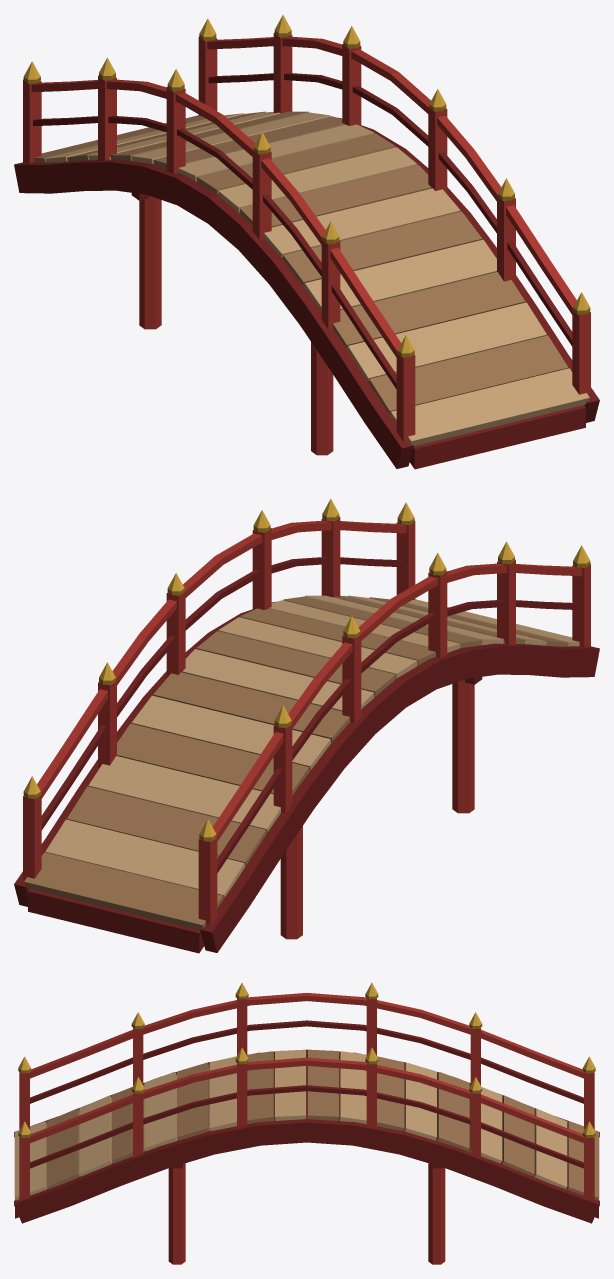
Rendered from bridge_arch.fbx.
3 views of the same model, one above another, from view 1: azimuth 30°, elevation 25°; view 2: azimuth 150°, elevation 25°; view 3: azimuth 270°, elevation 25° (orthographic). The views are drawn at different scales.
Parts seen in each view (by area): view 1: bridge_arch; view 2: bridge_arch; view 3: bridge_arch.
Boxes of the visible parts, bbox=[...] form: bridge_arch: bbox=[14, 15, 599, 469]; bridge_arch: bbox=[14, 499, 599, 953]; bridge_arch: bbox=[14, 982, 599, 1264].
Size of the model in its own units: 2.66 by 3.75 by 9.03.
